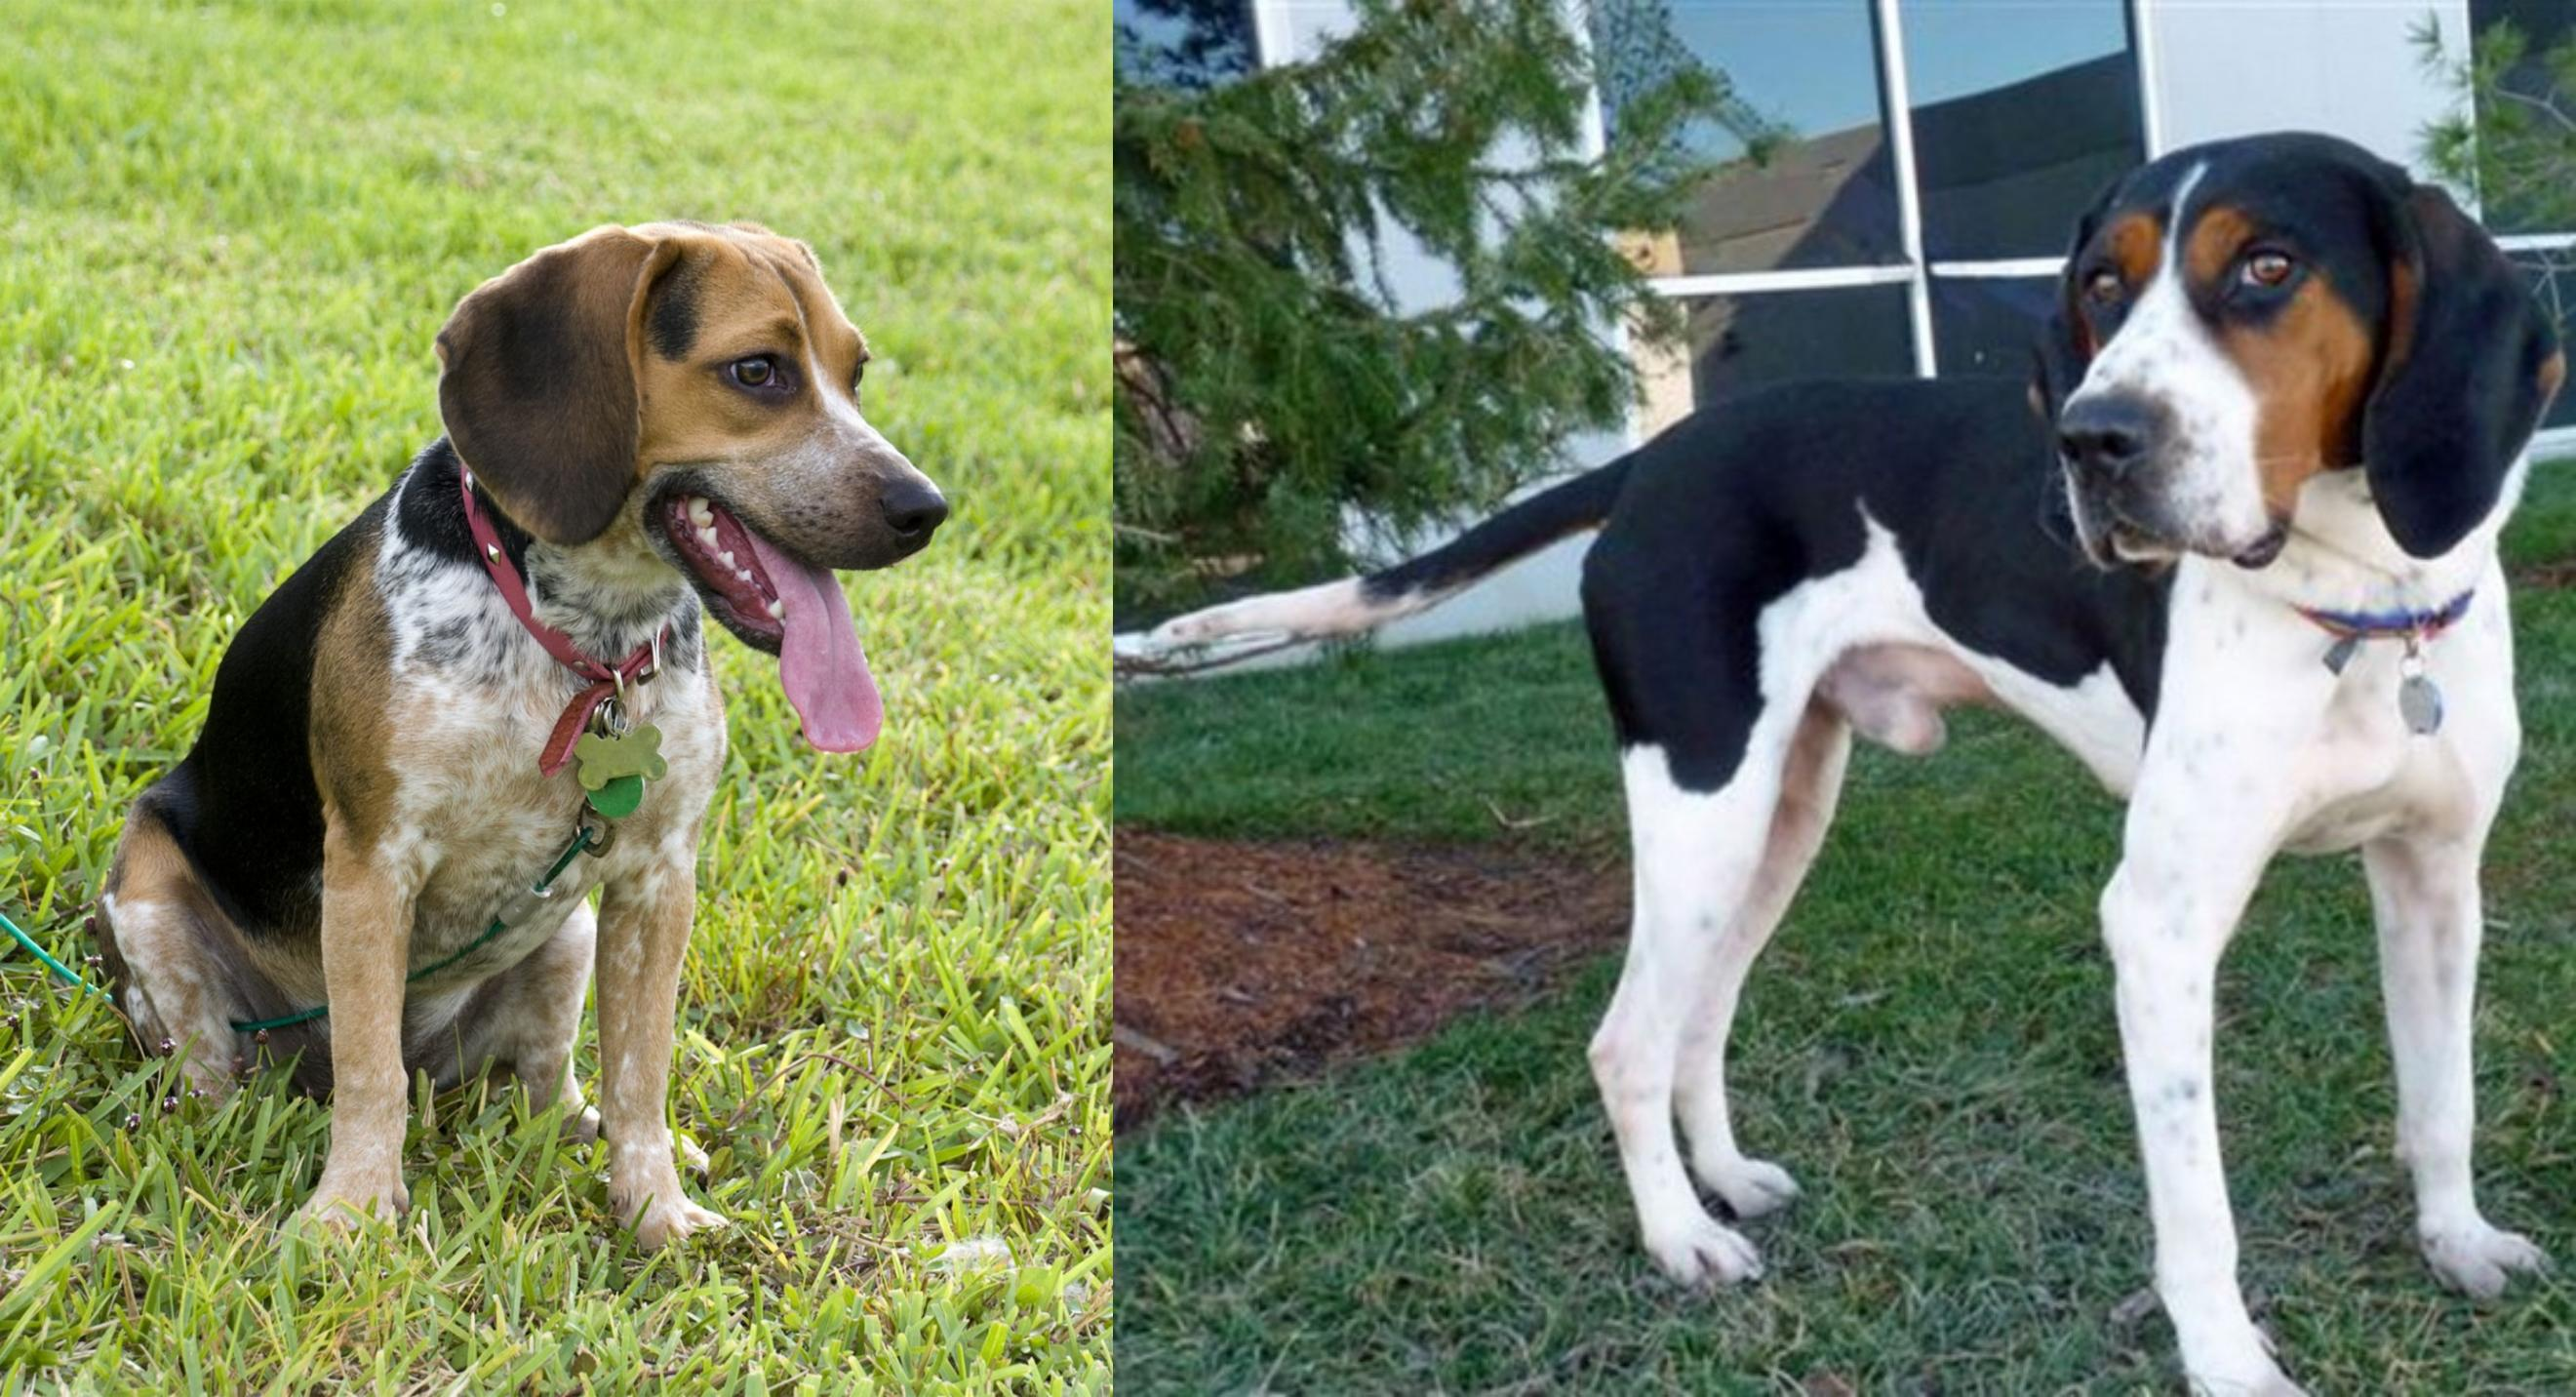dog: (1113, 120, 2576, 1397), (83, 208, 951, 1283)
